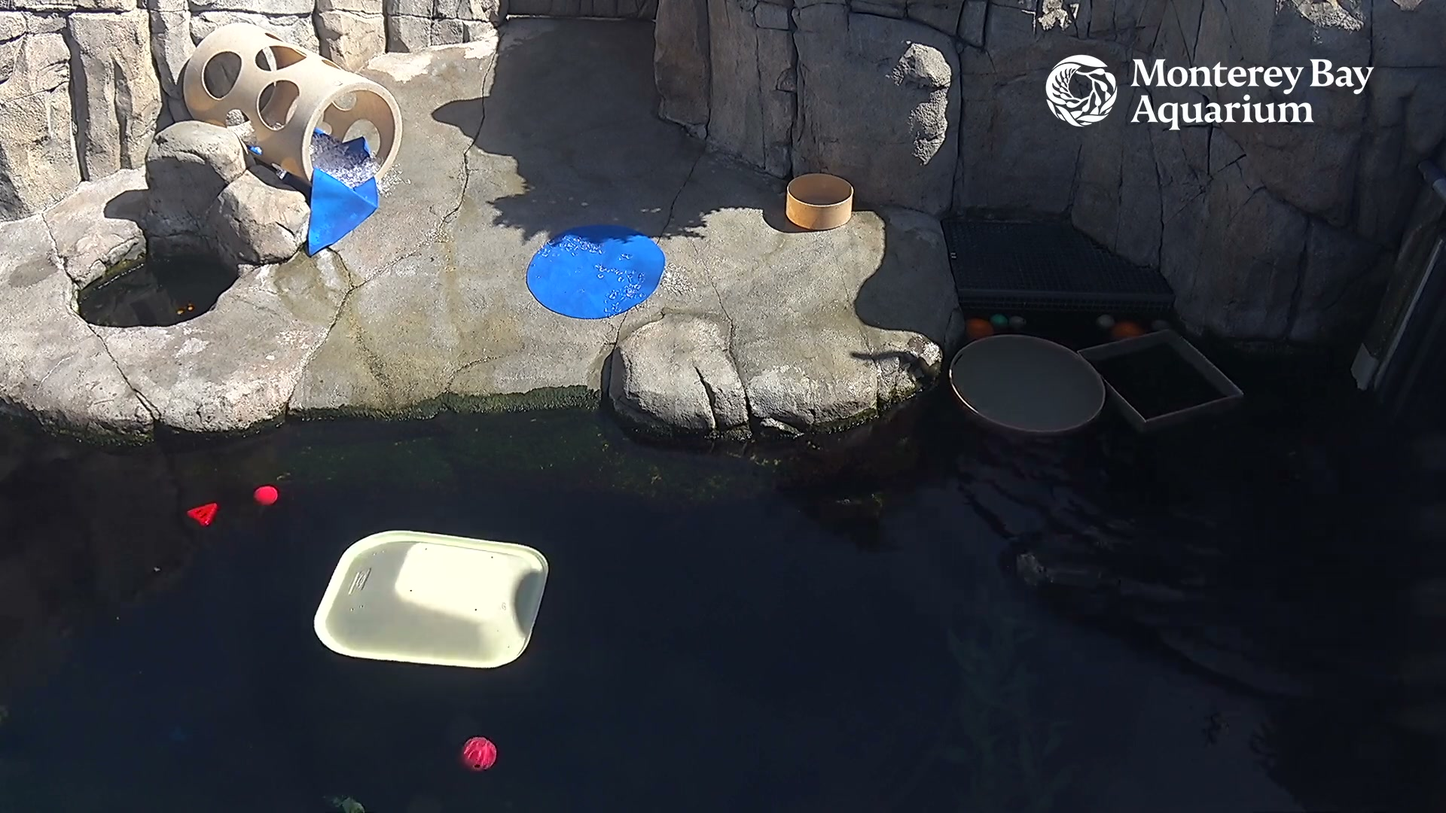Southern Sea Otter: (1020, 498, 1230, 629)
